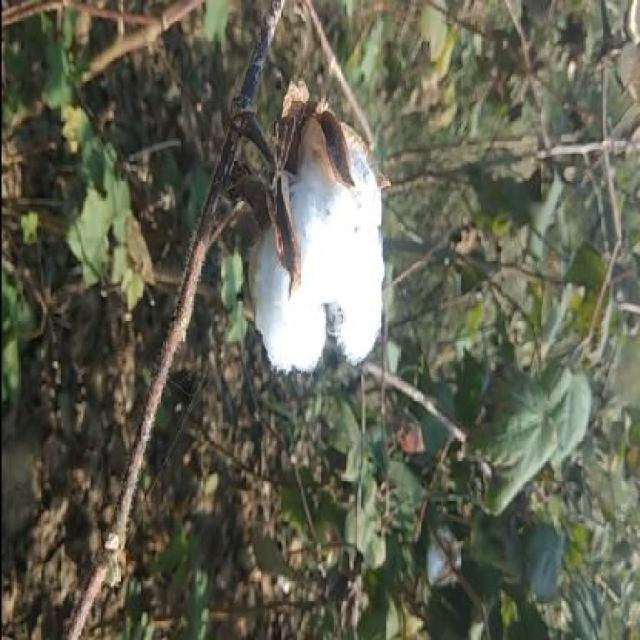cotton_ready: (219, 83, 404, 385)
